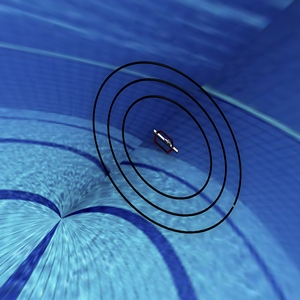circle: (75, 52, 261, 248)
submarine: (136, 121, 185, 162)
